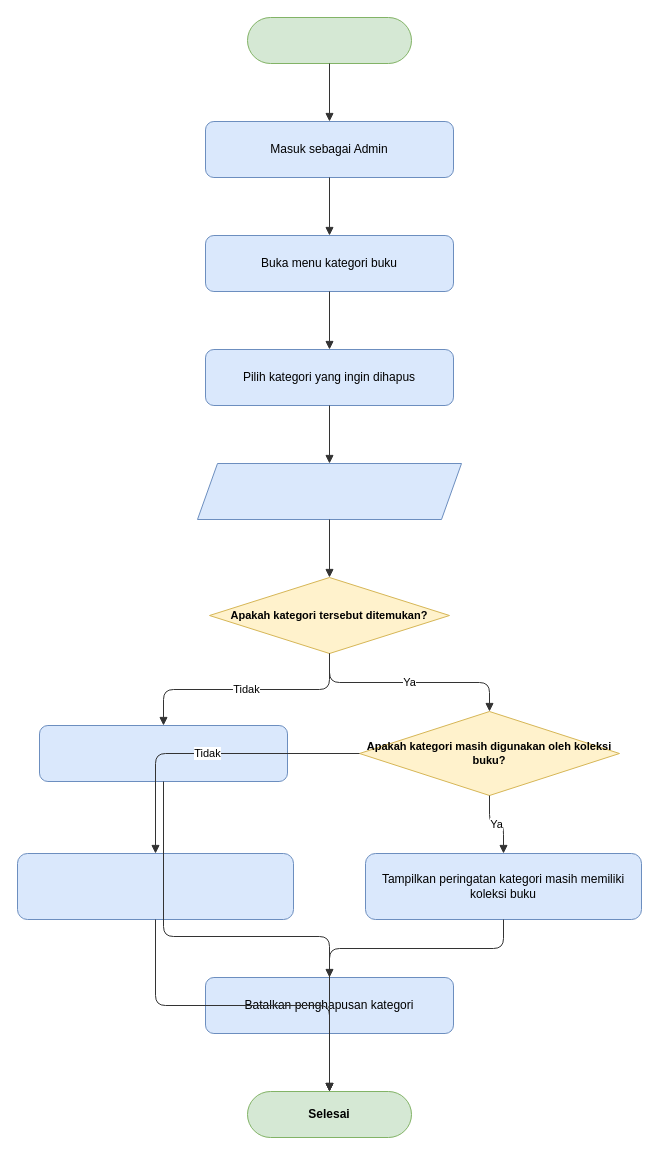
This 659x1155 diagram has some shape labels left out. The centre of each missing label's shape, as x and y in pixels:
"Hapus kategori dan tampilkan pesan kategori berhasil dihapus" goes at point 155,886.
"Klik tombol hapus kategori" goes at point 329,491.
"Mulai" goes at point 329,40.
"Tampilkan pesan kategori tidak ditemukan" goes at point 163,753.
